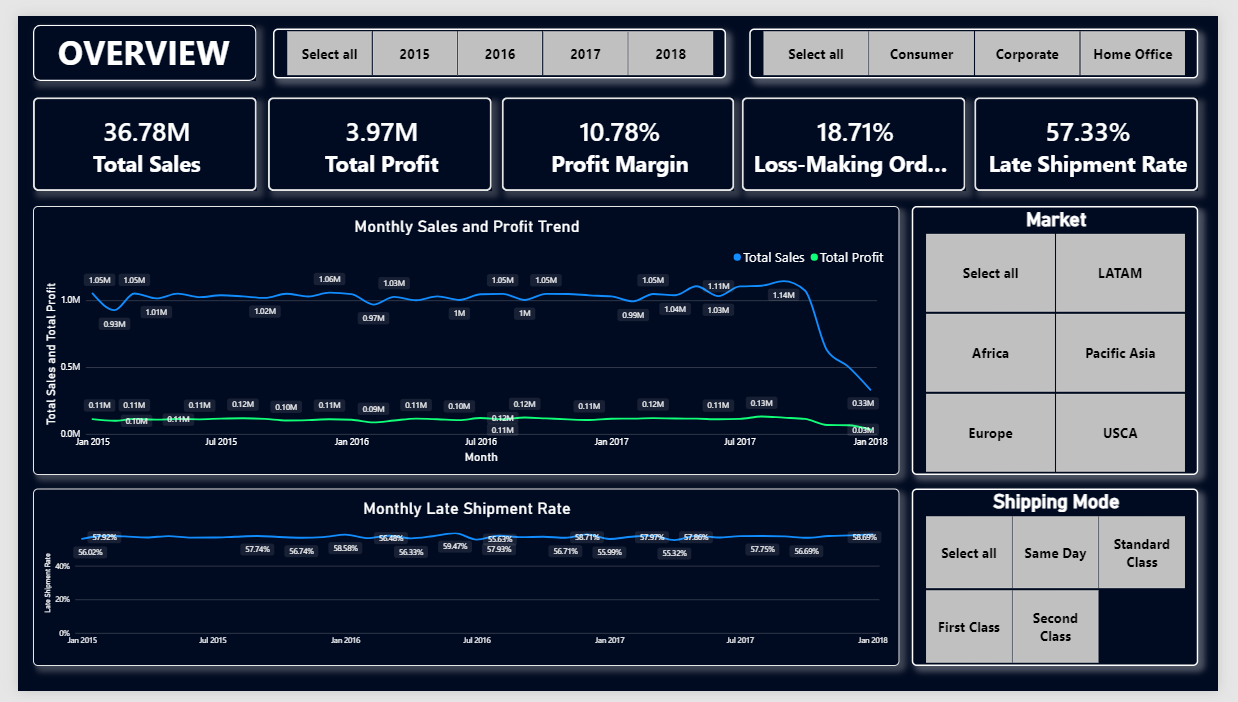

The page's visual inventory and layout, read from the dashboard file:
{"tool":"powerbi","page":{"name":"Overview","canvas":[1920,1080],"ordinal":0},"visuals":[{"type":"shape","box":[23.8,13.8,357.5,90],"z":0},{"type":"textbox","box":[22.5,20,358.8,90],"z":1000},{"type":"slicer","title":"Order Year","fields":{"Values":["dataco vw_sales_summary.order_year"]},"box":[408.3,20,725,80],"z":2000},{"type":"slicer","title":"Customer Segment","fields":{"Values":["dataco vw_sales_summary.customer_segment"]},"box":[1170,20,718.6,80],"z":3000},{"type":"slicer","title":"Market","fields":{"Values":["dataco vw_sales_summary.market"]},"box":[1430,304,458,430],"z":4000},{"type":"slicer","title":"Shipping Mode","fields":{"Values":["dataco vw_delivery_performance.shipping_mode"]},"box":[1430,756,458,284],"z":5000},{"type":"cardVisual","title":"Total Sales","fields":{"Data":["dataco vw_delivery_performance.Total Sales"]},"box":[23.3,130,358,150],"z":6000},{"type":"cardVisual","fields":{"Data":["dataco vw_delivery_performance.Total Profit"]},"box":[400,130,358,150],"z":7000},{"type":"cardVisual","fields":{"Data":["dataco vw_delivery_performance.Profit Margin"]},"box":[773.3,130,372,150],"z":8000},{"type":"cardVisual","fields":{"Data":["dataco vw_delivery_performance.Loss-Making Order Rate"]},"box":[1158.3,130,358,150],"z":9000},{"type":"cardVisual","fields":{"Data":["dataco vw_delivery_performance.Late Shipment Rate"]},"box":[1530,130,358,150],"z":10000},{"type":"lineChart","title":"Monthly Sales and Profit Trend","fields":{"Category":["dataco vw_sales_summary.month_start.Variation.Date Hierarchy.Year","dataco vw_sales_summary.month_start.Variation.Date Hierarchy.Quarter","dataco vw_sales_summary.month_start.Variation.Date Hierarchy.Month","dataco vw_sales_summary.month_start.Variation.Date Hierarchy.Day"],"Y":["dataco vw_delivery_performance.Total Sales","dataco vw_delivery_performance.Total Profit"]},"box":[24,304,1386,430],"z":11000},{"type":"lineChart","title":"Monthly Late Shipment Rate","fields":{"Category":["dataco vw_sales_summary.month_start"],"Y":["dataco vw_delivery_performance.Late Shipment Rate"]},"box":[24,756,1386,284],"z":11001}]}

Visuals, with their boxes in screenshot pixels (x1, y1, x2, y2), scaled from the page's 1920x1080 canvas onto the 1238x702 screenshot:
shape: x1=15 y1=9 x2=246 y2=67
textbox: x1=15 y1=13 x2=246 y2=72
"Order Year" slicer: x1=263 y1=13 x2=731 y2=65
"Customer Segment" slicer: x1=754 y1=13 x2=1218 y2=65
"Market" slicer: x1=922 y1=198 x2=1217 y2=477
"Shipping Mode" slicer: x1=922 y1=491 x2=1217 y2=676
"Total Sales" cardVisual: x1=15 y1=84 x2=246 y2=182
cardVisual - dataco vw_delivery_performance.Total Profit: x1=258 y1=84 x2=489 y2=182
cardVisual - dataco vw_delivery_performance.Profit Margin: x1=499 y1=84 x2=738 y2=182
cardVisual - dataco vw_delivery_performance.Loss-Making Order Rate: x1=747 y1=84 x2=978 y2=182
cardVisual - dataco vw_delivery_performance.Late Shipment Rate: x1=987 y1=84 x2=1217 y2=182
"Monthly Sales and Profit Trend" lineChart: x1=15 y1=198 x2=909 y2=477
"Monthly Late Shipment Rate" lineChart: x1=15 y1=491 x2=909 y2=676
